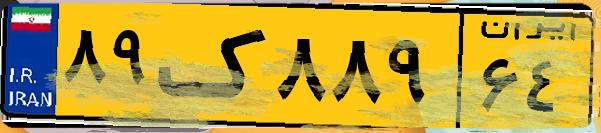4: (525, 38, 570, 115)
6: (475, 38, 525, 113)
8: (270, 28, 330, 110), (330, 28, 385, 110), (57, 26, 110, 100)
9: (385, 28, 445, 110), (110, 28, 158, 98)
ک: (158, 12, 270, 120)
